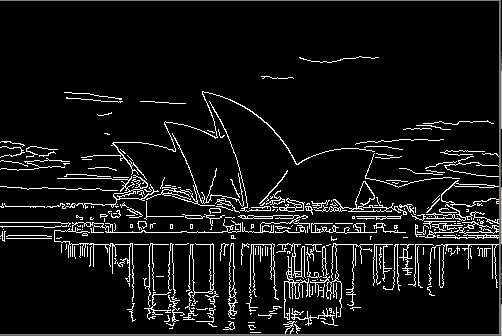opera house: (84, 80, 454, 233)
